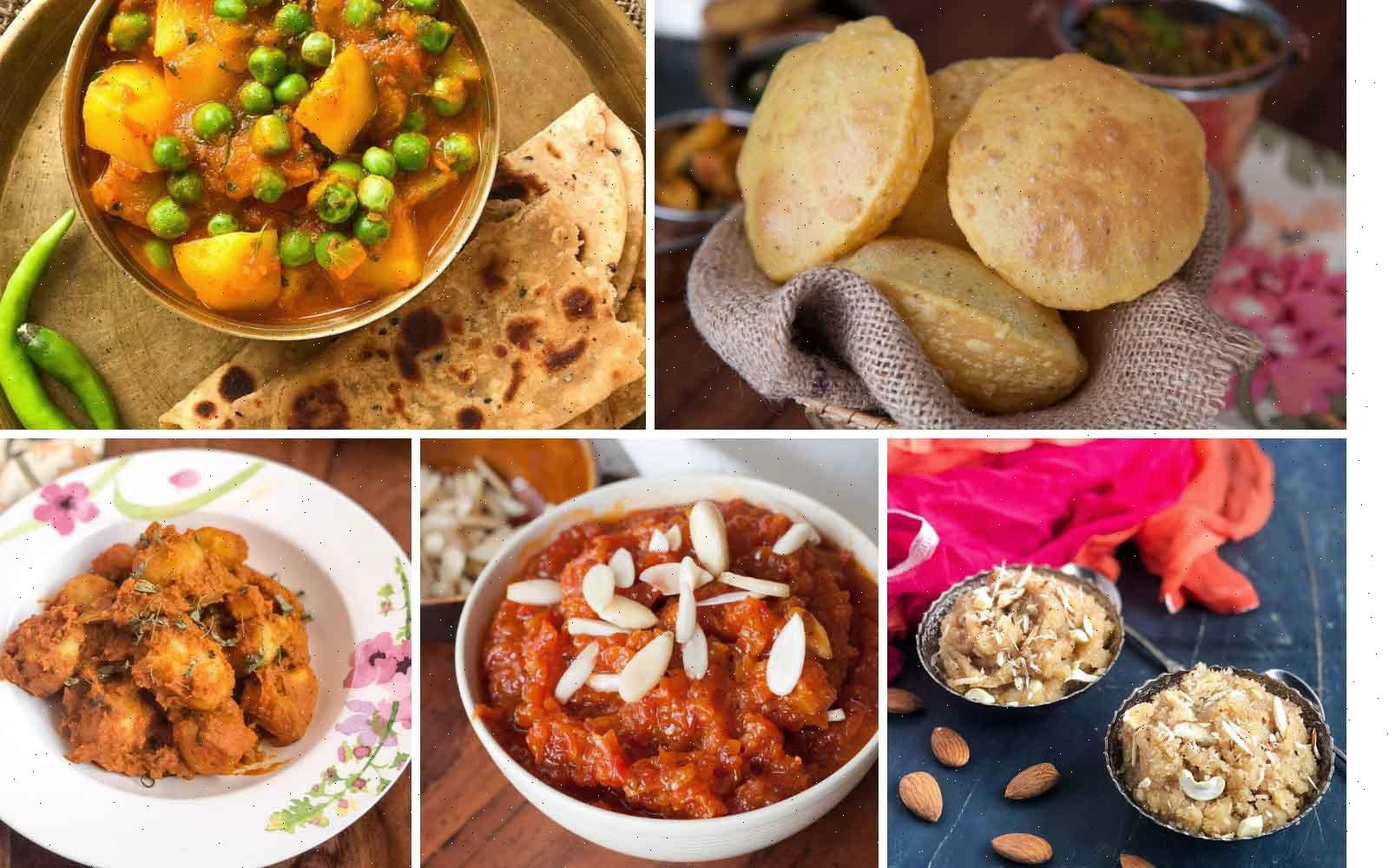puri: (742, 22, 1209, 401)
